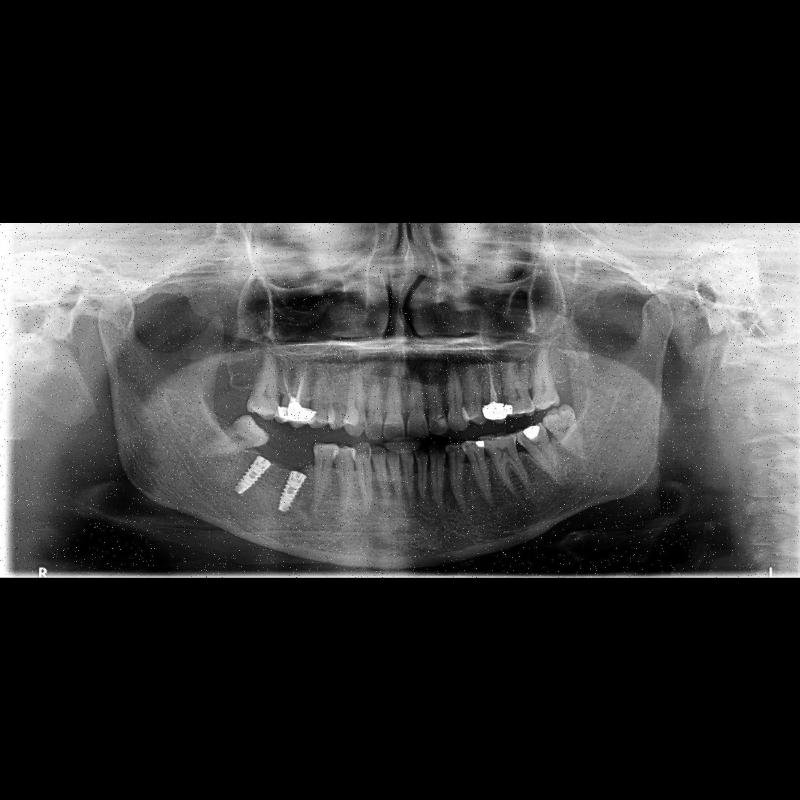MIS: (234, 450, 272, 500), (278, 470, 306, 514)
